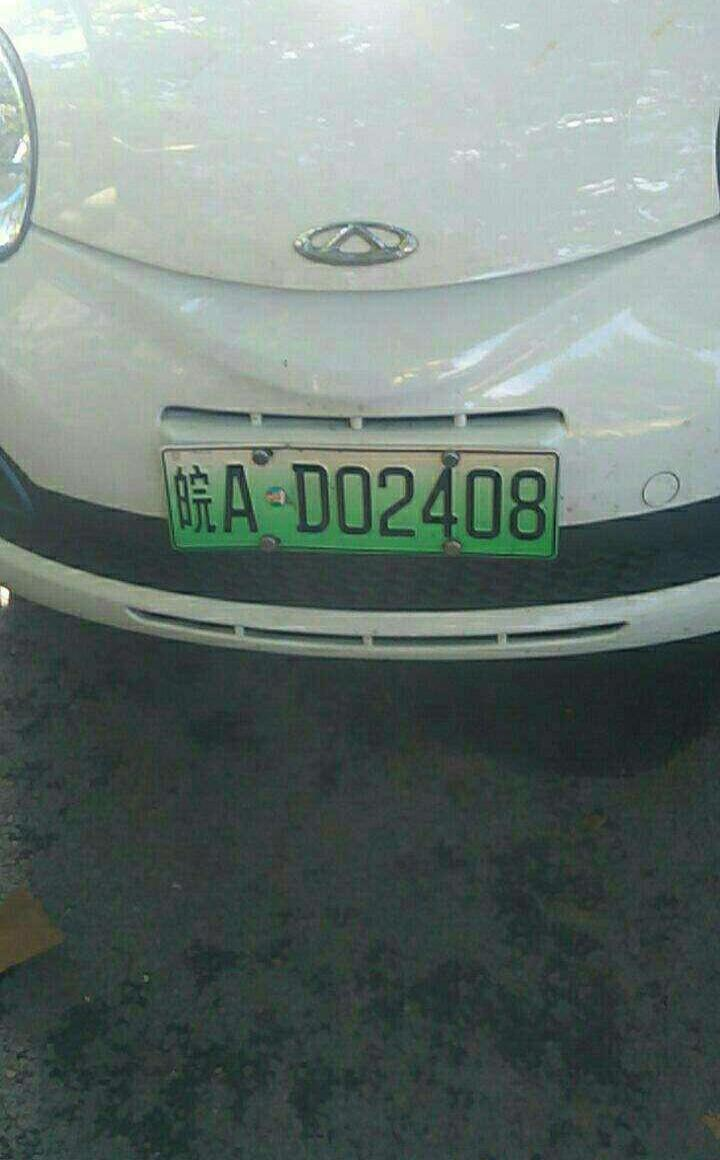car_id: (169, 451, 561, 560)
